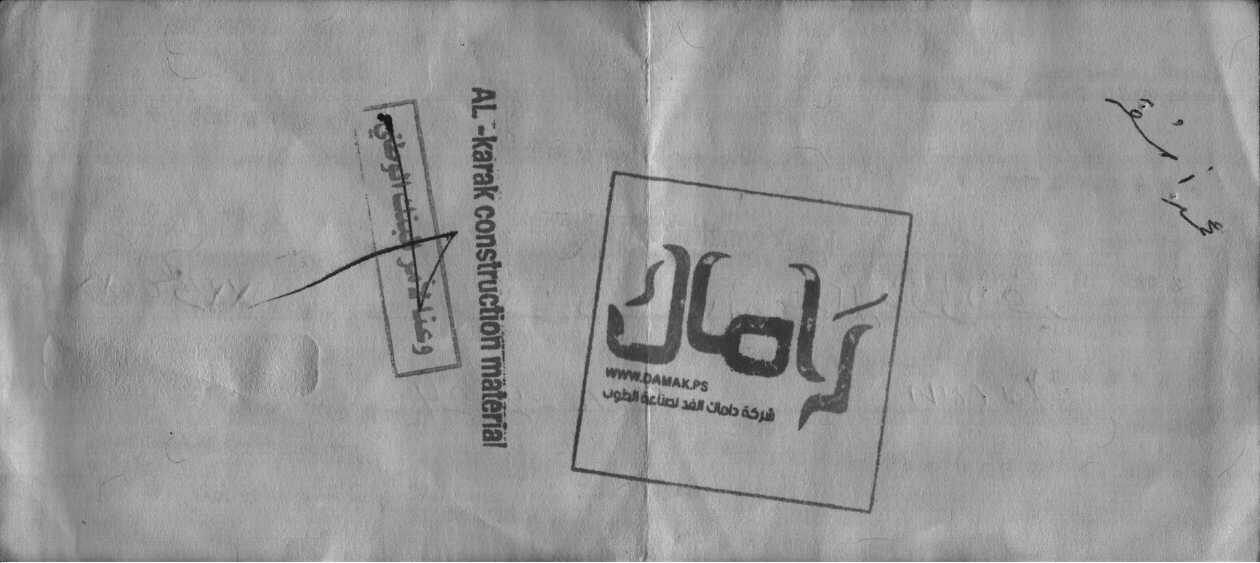stamp: (568, 169, 917, 517), (342, 96, 465, 381)
